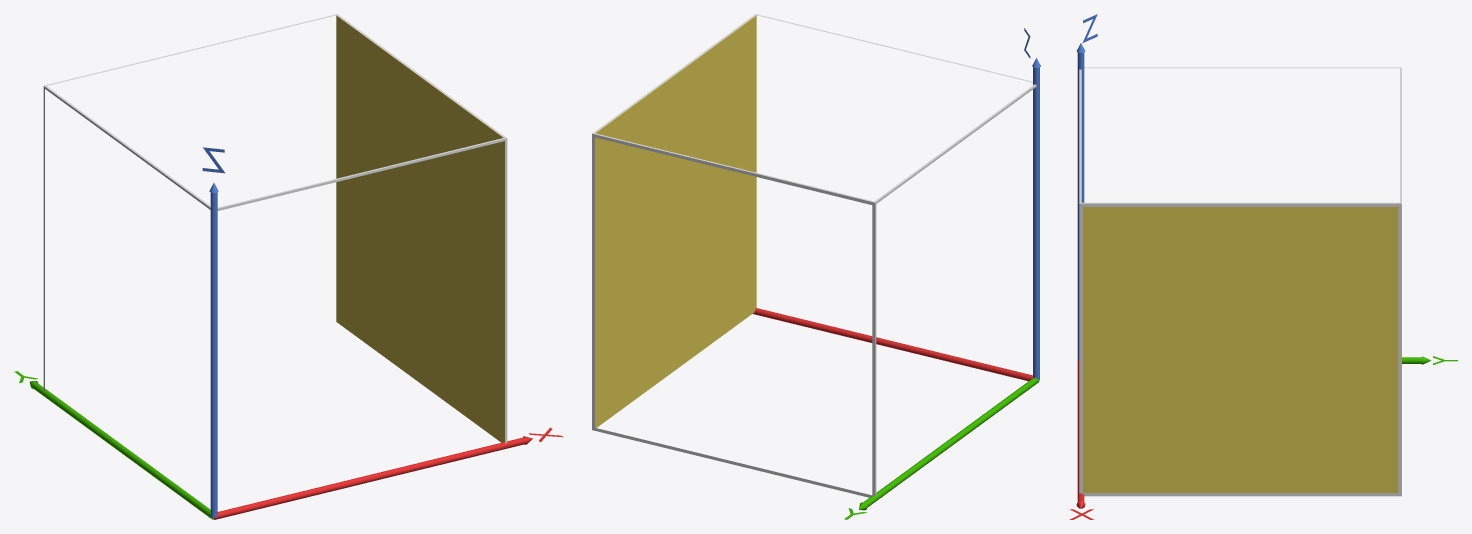
3 renders of one model, left to right at view 1: azimuth 30°, elevation 25°; view 2: azimuth 150°, elevation 25°; view 3: azimuth 270°, elevation 25°, orthographic. The views are drawn at different scales.
Parts seen in each view (by area): view 1: Cube.001, Cube, Z, X, Y; view 2: Cube.001, Cube, Z, X, Y; view 3: Cube.001, Cube, Z, X.
Part boxes in pixels (<box>): Cube.001: <box>336,15,504,442</box>; Cube: <box>43,14,507,443</box>; Z: <box>209,183,218,517</box>; X: <box>214,436,532,519</box>; Y: <box>30,381,213,519</box>; Cube.001: <box>595,15,756,427</box>; Cube: <box>592,14,1036,497</box>; Z: <box>1032,58,1040,380</box>; X: <box>753,308,1032,381</box>; Y: <box>859,378,1039,510</box>; Cube.001: <box>1083,207,1398,492</box>; Cube: <box>1079,67,1401,496</box>; Z: <box>1076,43,1085,359</box>; X: <box>1076,359,1085,508</box>.
Size of the model in its own units: 4.8 by 4.77 by 4.81.
